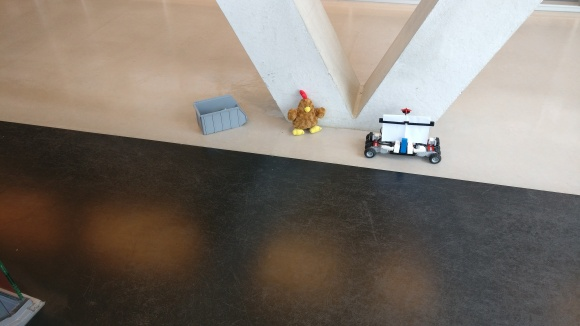car: (362, 108, 444, 167)
chicken: (286, 89, 326, 137)
tray: (192, 93, 247, 136)
